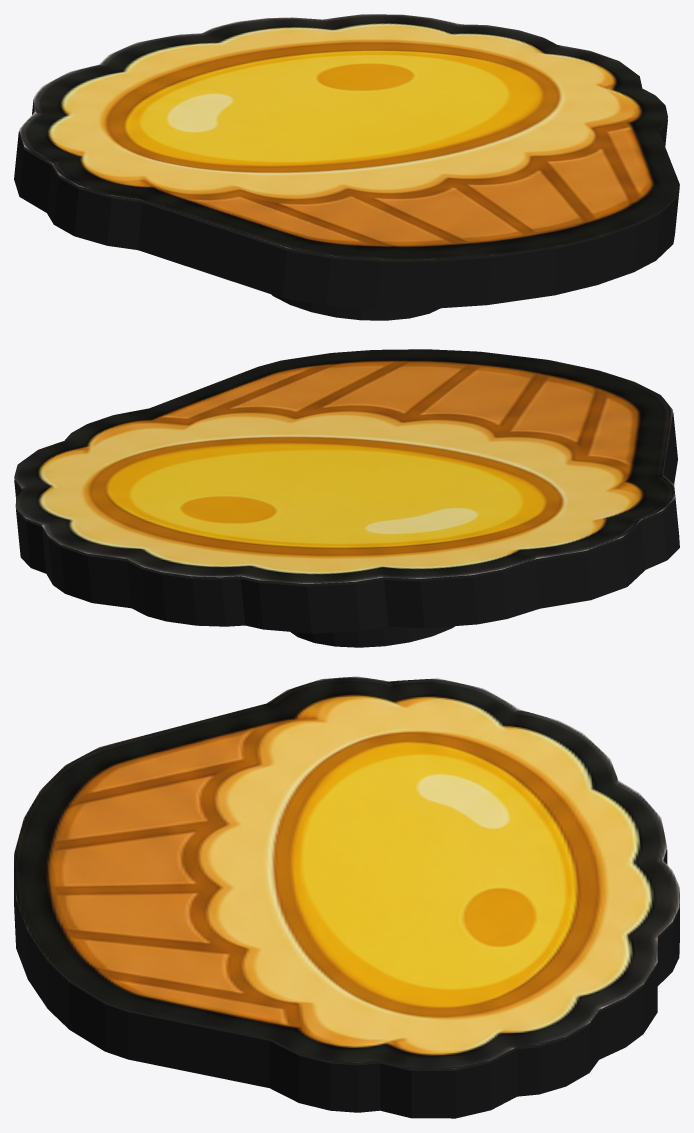
Rendered from food-egg-tart.glb.
3 views of the same model, one above another, from view 1: azimuth 30°, elevation 25°; view 2: azimuth 150°, elevation 25°; view 3: azimuth 270°, elevation 25° (orthographic). The views are drawn at different scales.
Visible parts, largest first — view 1: FOOD_Egg_Tart_MODEL; view 2: FOOD_Egg_Tart_MODEL; view 3: FOOD_Egg_Tart_MODEL.
Boxes of the visible parts, box(x1,y1,x2,y2) form: FOOD_Egg_Tart_MODEL: box(14, 14, 679, 320); FOOD_Egg_Tart_MODEL: box(14, 349, 679, 647); FOOD_Egg_Tart_MODEL: box(14, 676, 679, 1118).
Size of the model in its own units: 0.3509 by 0.1014 by 0.307.
Materials: 3 (1 with a texture image).
